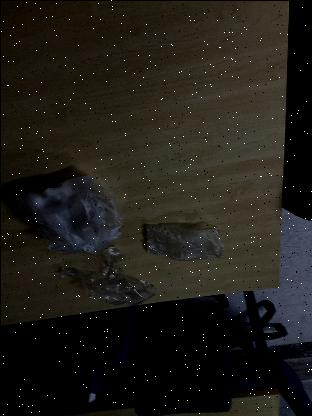Others: (7, 166, 138, 262), (51, 242, 160, 316), (134, 207, 228, 261)
